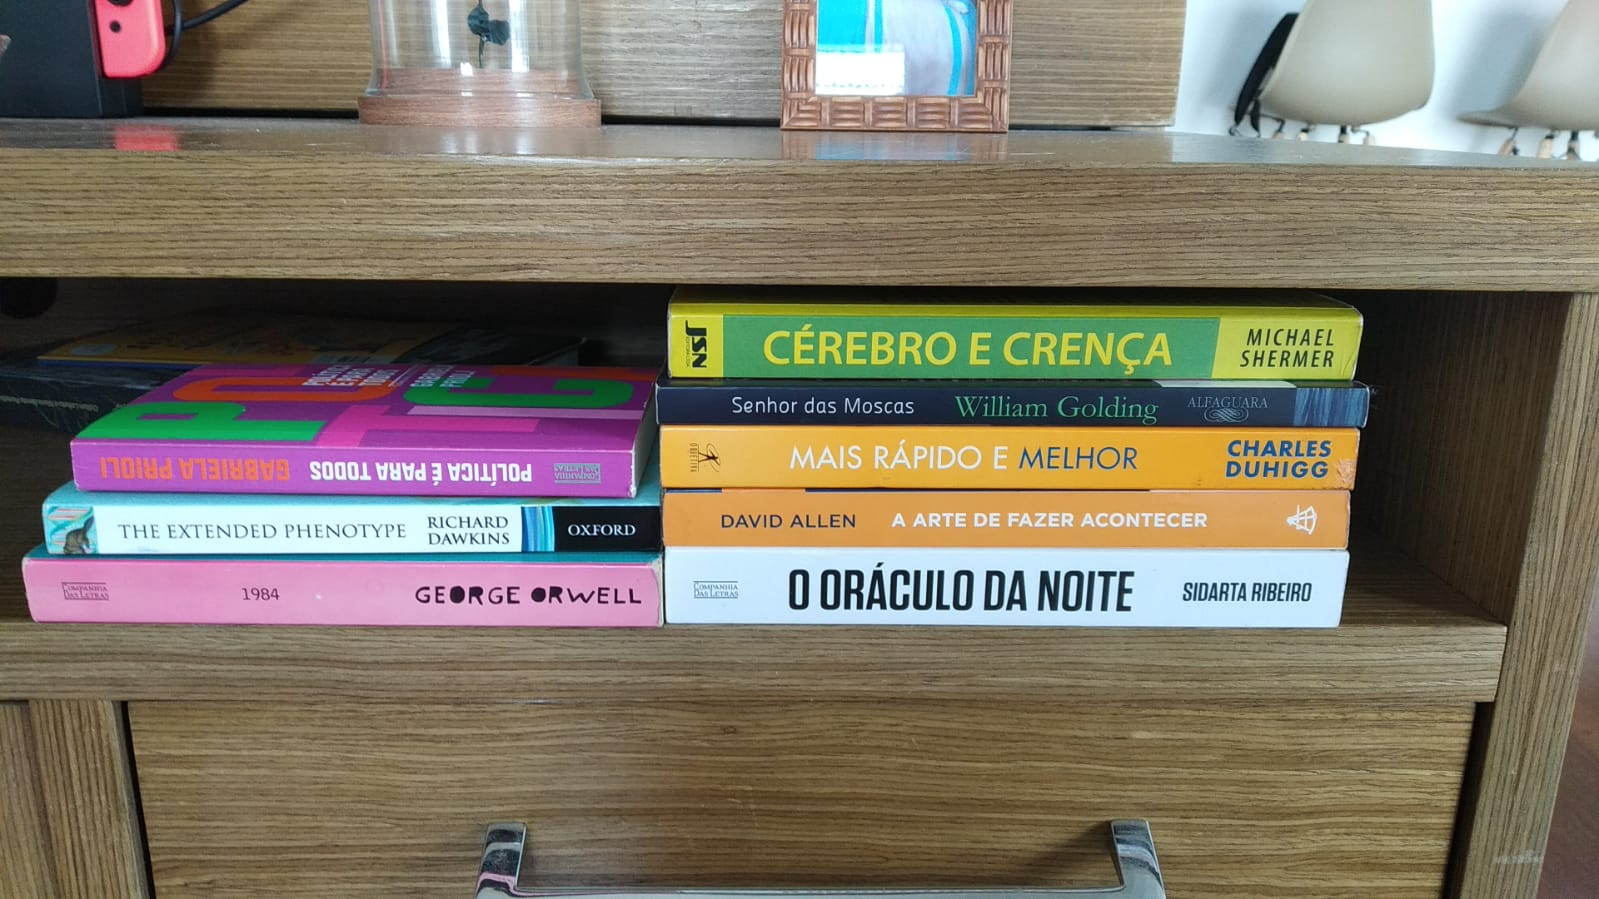Q111263577: (76, 442, 631, 498)
Q111263655: (43, 505, 656, 559)
Q111263683: (22, 559, 660, 628)
Q111263693: (666, 315, 1356, 379)
Q111263699: (652, 387, 1369, 430)
Q111263716: (663, 428, 1358, 485)
Q111263730: (658, 488, 1344, 547)
Q111263741: (667, 551, 1341, 625)
